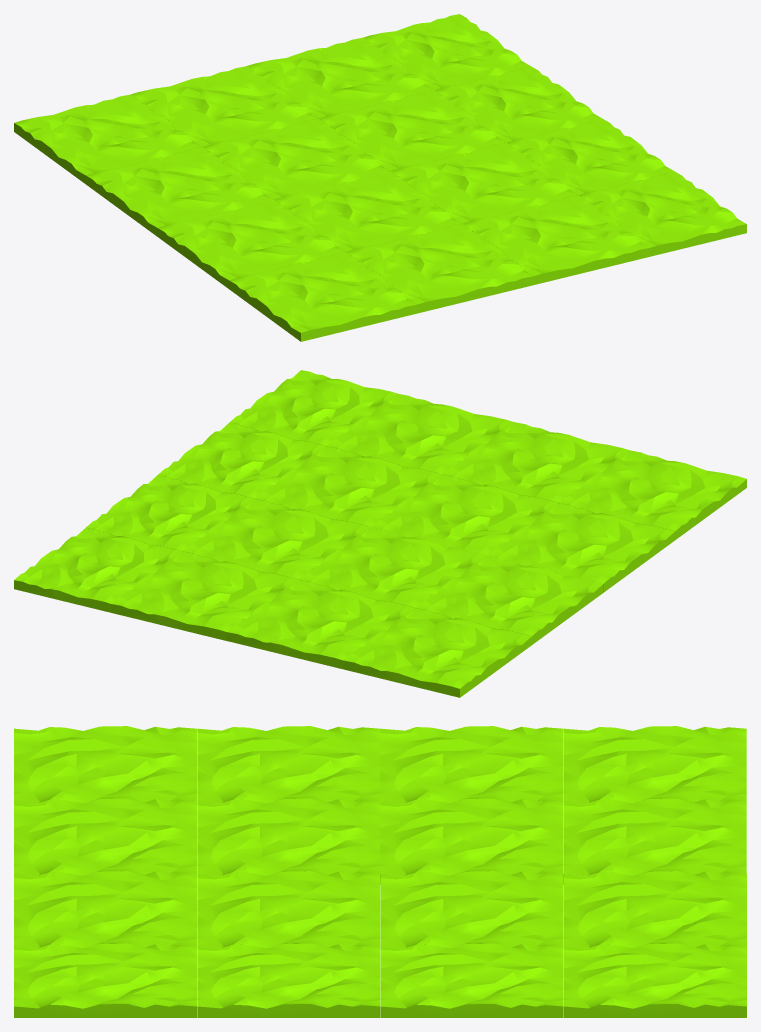
File: grass001.fbx
3 views of the same model, one above another, from view 1: azimuth 30°, elevation 25°; view 2: azimuth 150°, elevation 25°; view 3: azimuth 270°, elevation 25° (orthographic). The views are drawn at different scales.
Parts seen in each view (by area): view 1: pasted__pasted__Grass_Base__29_13; view 2: pasted__pasted__Grass_Base__29_13; view 3: pasted__pasted__Grass_Base__29_13.
Boxes of the visible parts, box(x1,y1,x2,y2) form: pasted__pasted__Grass_Base__29_13: box(14, 14, 746, 341); pasted__pasted__Grass_Base__29_13: box(14, 370, 746, 697); pasted__pasted__Grass_Base__29_13: box(14, 726, 746, 1017).
Bounding box in the file's own units: 1342 × 35.05 × 1497.
